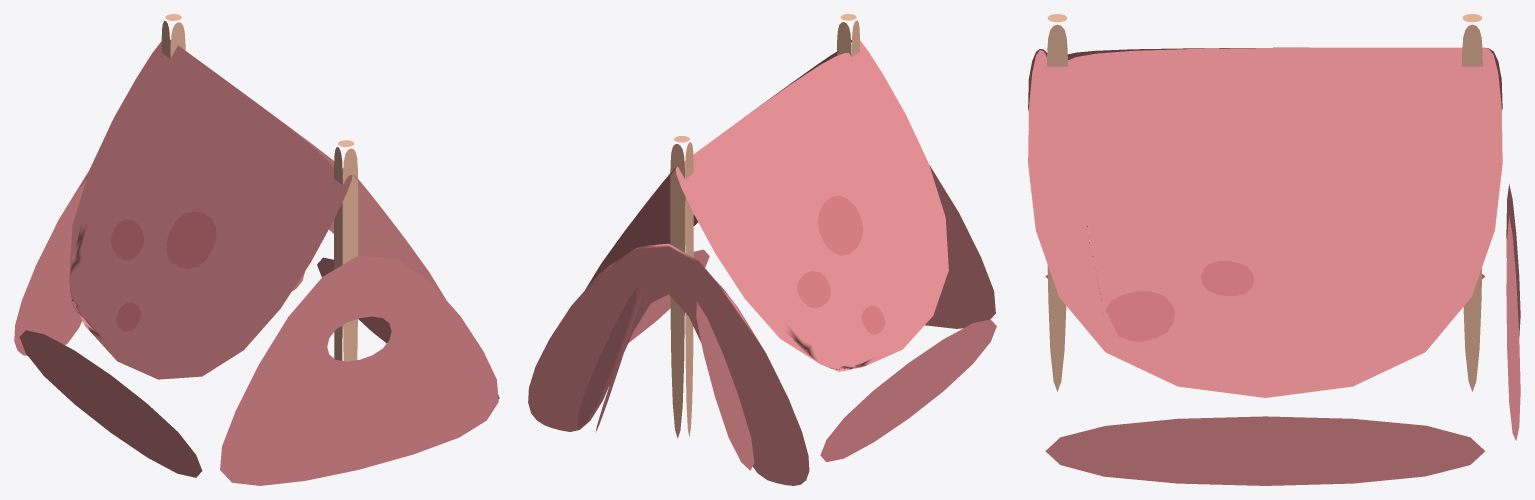
File: tent_smallOpen.glb
The picture shows the model from 3 angles, left to right: view 1: azimuth 30°, elevation 25°; view 2: azimuth 150°, elevation 25°; view 3: azimuth 270°, elevation 25°; orthographic projection. The views are drawn at different scales.
Parts seen in each view (by area): view 1: tent_smallOpen; view 2: tent_smallOpen; view 3: tent_smallOpen.
Boxes of the visible parts, x1,y1,x2,y2 form: tent_smallOpen: (14,14,499,485); tent_smallOpen: (528,14,996,485); tent_smallOpen: (1028,14,1520,485).
Size of the model in its own units: 0.5476 by 0.5611 by 0.6566.
